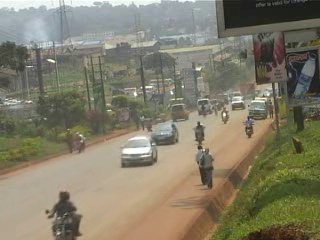Car: (117, 132, 161, 170), (148, 118, 180, 147)
Motorcycle: (42, 207, 82, 239), (190, 127, 206, 147), (73, 137, 89, 154), (240, 121, 255, 139), (219, 111, 229, 125)
